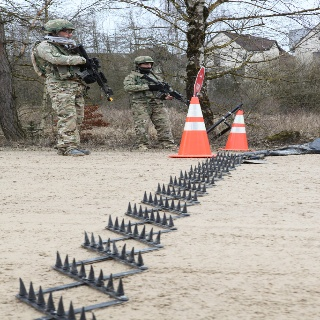rifle: (68, 42, 113, 104), (141, 73, 189, 107)
